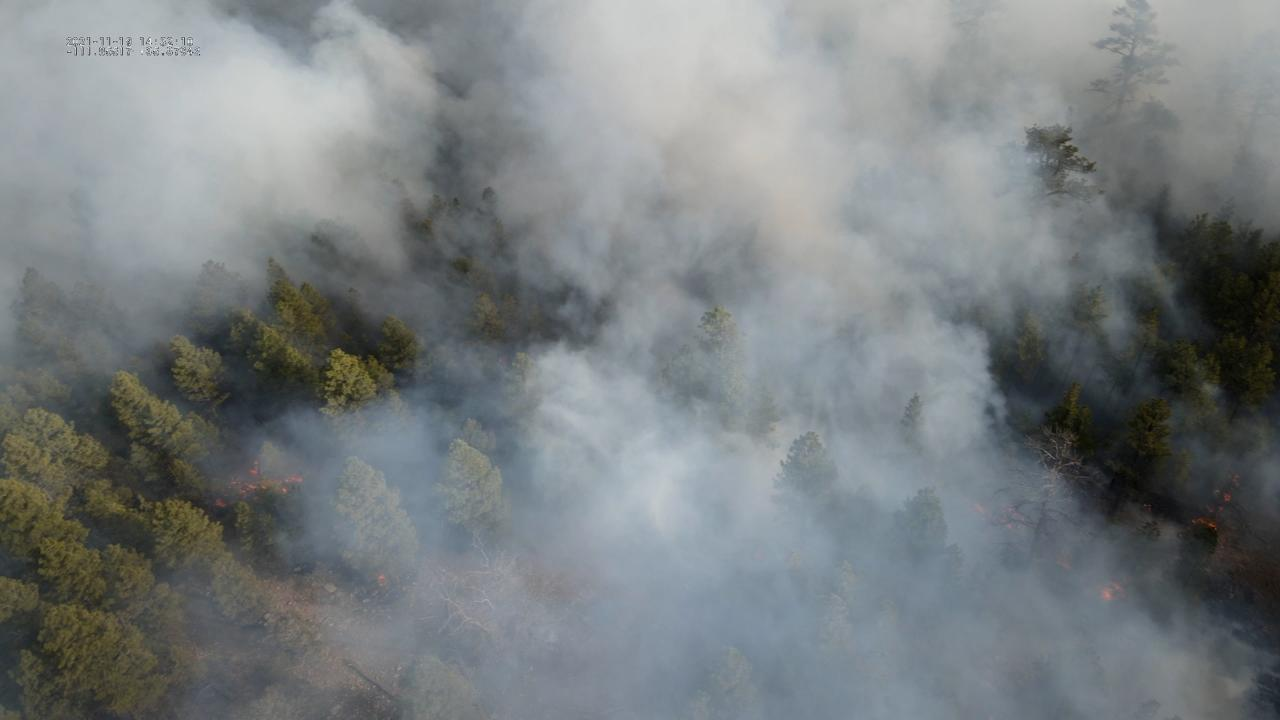fire: (228, 459, 305, 498), (1099, 581, 1127, 603), (1189, 516, 1218, 531), (973, 503, 988, 516), (1222, 489, 1233, 506), (376, 573, 388, 587), (212, 498, 227, 509), (1208, 504, 1224, 513)
smoke: (0, 0, 1280, 720)
